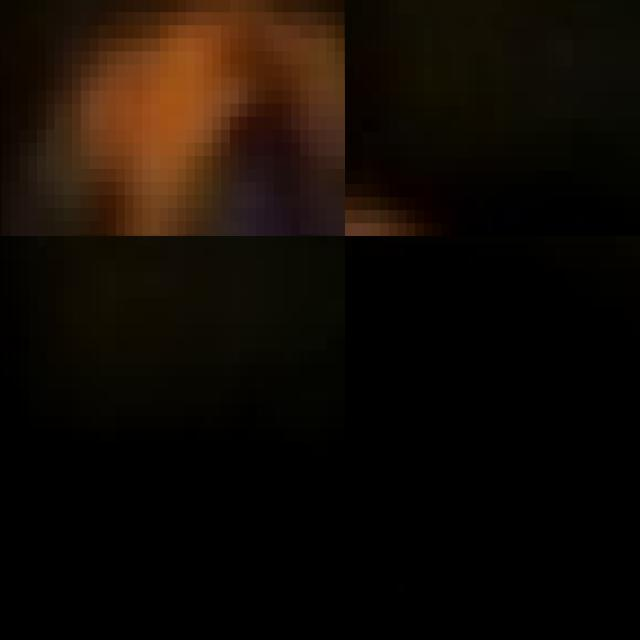fish: (0, 0, 345, 236), (345, 158, 573, 236)
